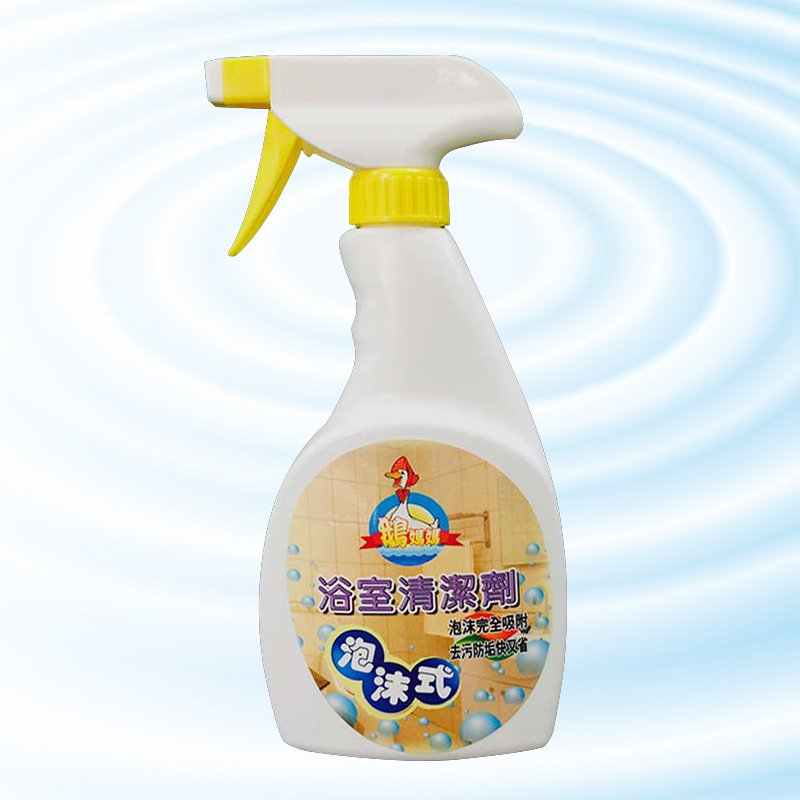cleaner: (189, 46, 567, 766)
